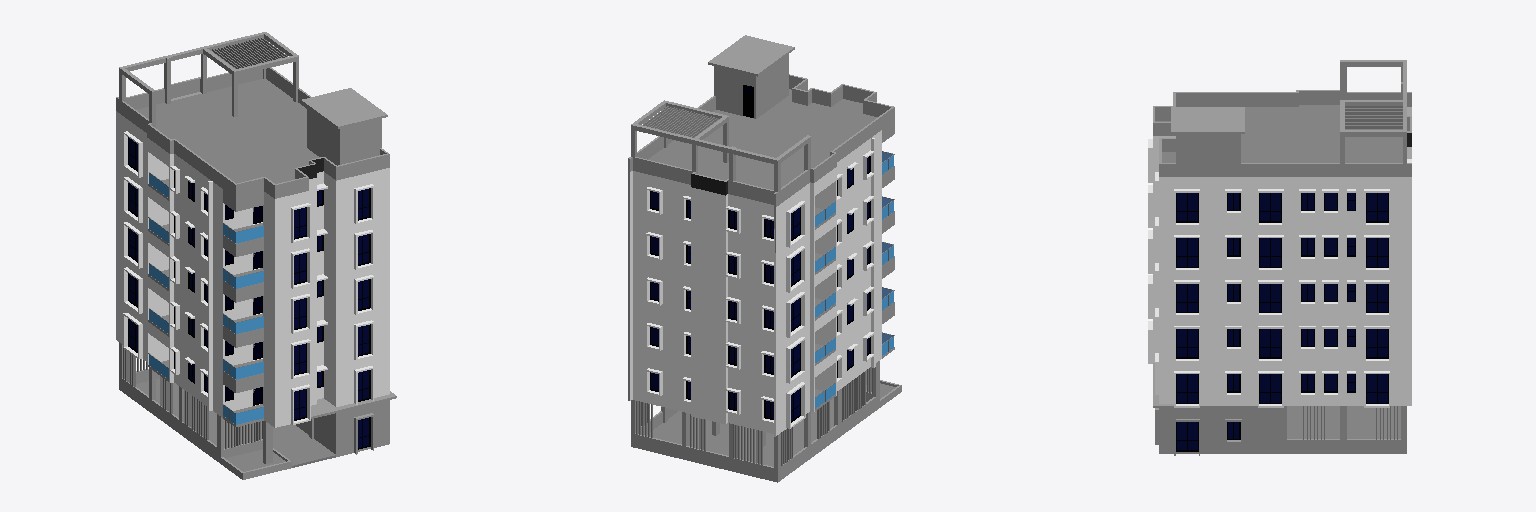
The picture shows the model from 3 angles: view 1: azimuth 30°, elevation 25°; view 2: azimuth 150°, elevation 25°; view 3: azimuth 270°, elevation 25°; orthographic projection.
Visible parts, largest first — view 1: WALL, ROOF_1, GROUND_FLOOR_1, BALCONY, WINDOW, LOUVER, DOOR; view 2: WALL, ROOF_1, GROUND_FLOOR_1, LOUVER, WINDOW, BALCONY; view 3: WALL, ROOF_1, WINDOW, GROUND_FLOOR_1, LOUVER, GROUND_FLOOR_2.
Boxes of the visible parts, x1=… form: WALL: x1=116, y1=111, x2=389, y2=427; ROOF_1: x1=116, y1=67, x2=389, y2=198; GROUND_FLOOR_1: x1=119, y1=342, x2=396, y2=479; BALCONY: x1=148, y1=172, x2=263, y2=426; WINDOW: x1=128, y1=137, x2=370, y2=420; LOUVER: x1=119, y1=32, x2=298, y2=448; DOOR: x1=253, y1=206, x2=262, y2=405; WALL: x1=628, y1=130, x2=881, y2=436; ROOF_1: x1=628, y1=35, x2=894, y2=207; GROUND_FLOOR_1: x1=631, y1=361, x2=901, y2=482; LOUVER: x1=631, y1=100, x2=872, y2=465; WINDOW: x1=650, y1=156, x2=870, y2=422; BALCONY: x1=815, y1=121, x2=894, y2=410; WALL: x1=1148, y1=107, x2=1411, y2=407; ROOF_1: x1=1153, y1=90, x2=1411, y2=176; WINDOW: x1=1176, y1=193, x2=1388, y2=403; GROUND_FLOOR_1: x1=1153, y1=363, x2=1406, y2=455; LOUVER: x1=1303, y1=60, x2=1406, y2=439; GROUND_FLOOR_2: x1=1176, y1=422, x2=1240, y2=451.
Bounding box in the file's own units: 84.55 × 169 × 125.
Materials: 13 (3 with a texture image).